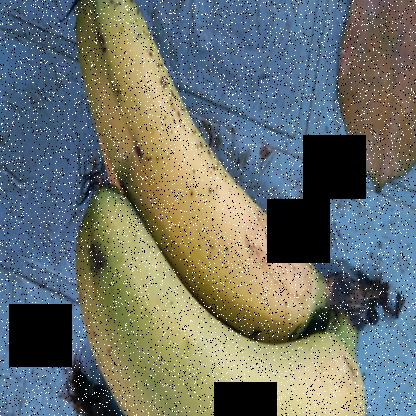freshripe: (56, 223, 357, 415)
ripe: (70, 1, 319, 331)
